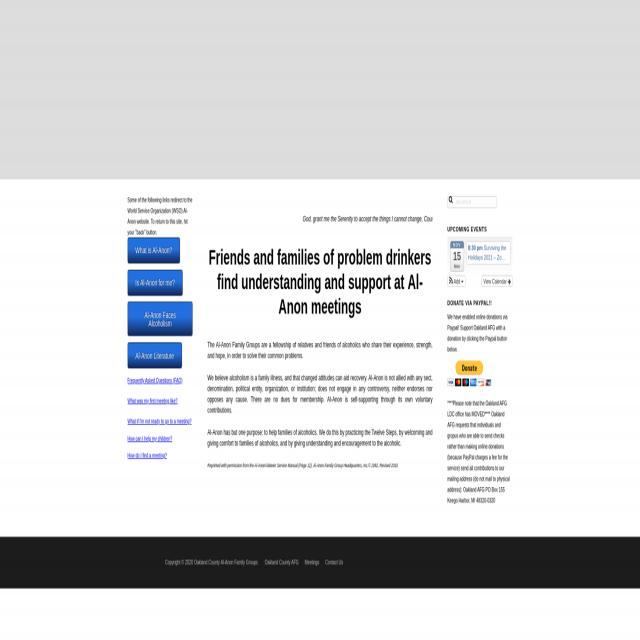button: (127, 302, 193, 336), (127, 342, 182, 368), (128, 270, 182, 296), (128, 237, 180, 263), (455, 360, 483, 376), (450, 241, 464, 272), (482, 275, 512, 287), (448, 276, 466, 286)
field: (447, 196, 497, 208)
